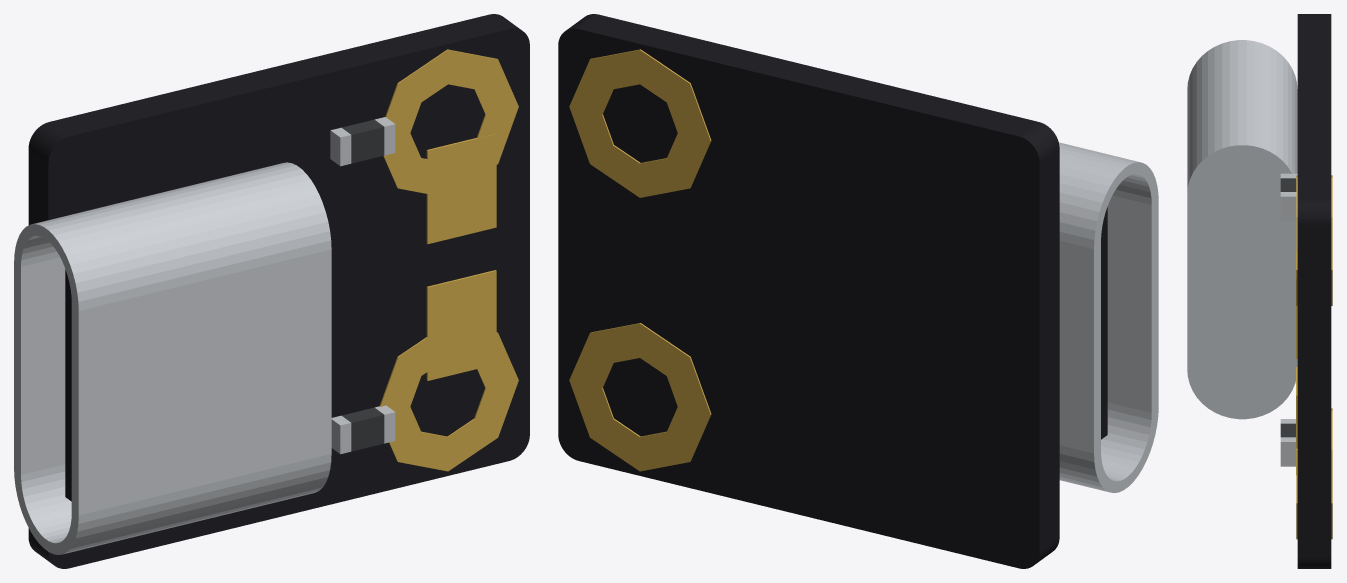
The picture shows the model from 3 angles, left to right: view 1: azimuth 30°, elevation 25°; view 2: azimuth 150°, elevation 25°; view 3: azimuth 270°, elevation 25°; orthographic projection. The views are drawn at different scales.
Parts seen in each view (by area): view 1: g2-metal, g1-pcb, g0-gold, g4-plastic, g5-metal, g3-plastic; view 2: g1-pcb, g2-metal, g0-gold, g3-plastic; view 3: g2-metal, g1-pcb, g0-gold, g5-metal, g4-plastic.
Boxes of the visible parts, <box> form: g2-metal: <box>14,162,331,554</box>; g1-pcb: <box>28,14,529,568</box>; g0-gold: <box>379,49,518,471</box>; g4-plastic: <box>342,119,384,451</box>; g5-metal: <box>330,117,395,454</box>; g3-plastic: <box>65,269,71,501</box>; g1-pcb: <box>558,14,1059,568</box>; g2-metal: <box>1059,142,1158,492</box>; g0-gold: <box>569,49,711,471</box>; g3-plastic: <box>1101,207,1107,439</box>; g2-metal: <box>1187,40,1297,419</box>; g1-pcb: <box>1297,14,1331,568</box>; g0-gold: <box>1296,175,1332,539</box>; g5-metal: <box>1280,173,1297,466</box>; g4-plastic: <box>1280,178,1296,437</box>.
Size of the model in its own units: 15 by 12 by 4.3.
